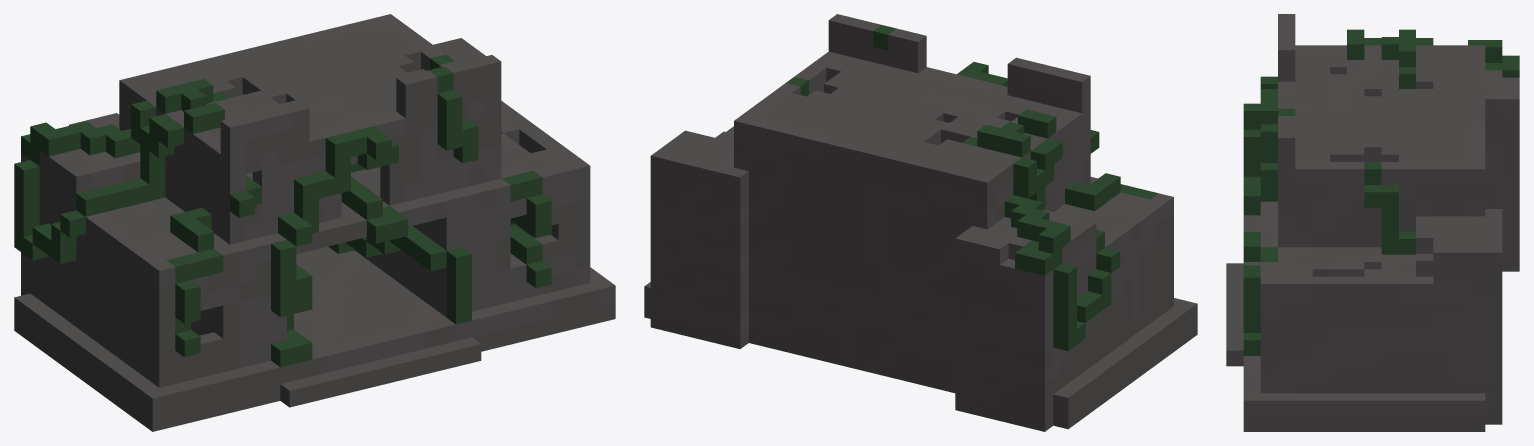
File: Temple.gltf
3 views of the same model, side by side, from view 1: azimuth 30°, elevation 25°; view 2: azimuth 150°, elevation 25°; view 3: azimuth 270°, elevation 25° (orthographic). The views are drawn at different scales.
Parts seen in each view (by area): view 1: Layer.1; view 2: Layer.1; view 3: Layer.1.
Part boxes in pixels (x1=…): Layer.1: x1=14, y1=14, x2=615, y2=431; Layer.1: x1=644, y1=14, x2=1197, y2=431; Layer.1: x1=1226, y1=14, x2=1519, y2=431.
Size of the model in its own units: 29 by 16 by 17.
Materials: 1 (1 with a texture image).
